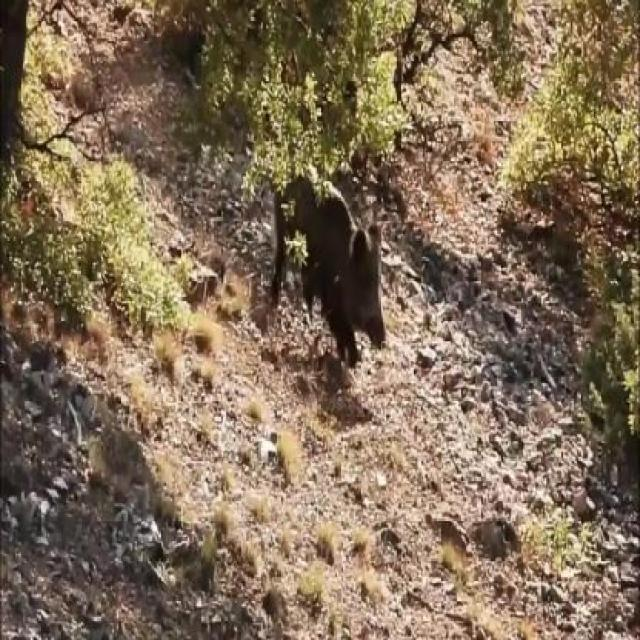pig: (271, 121, 382, 372)
